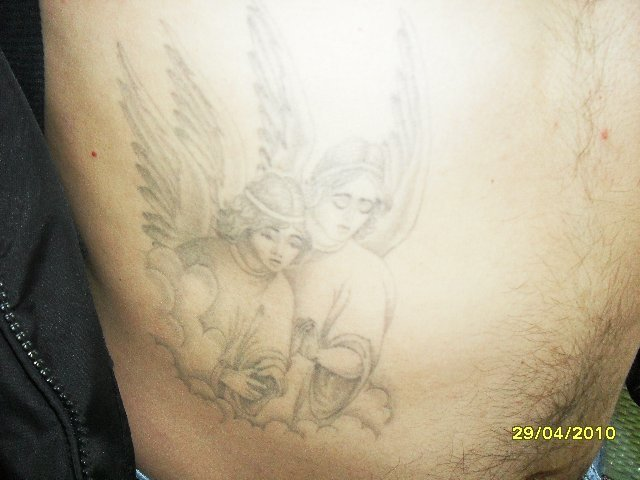tatu1_angel: (93, 2, 435, 441)
